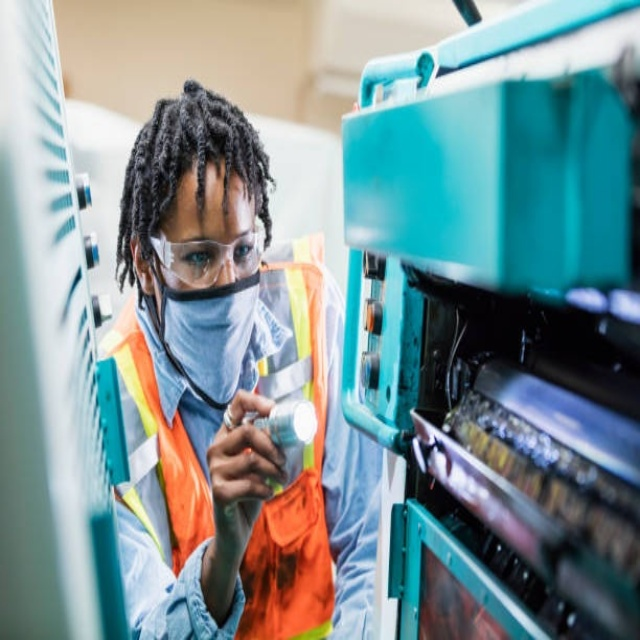Gafas: (148, 221, 267, 290)
Mascara: (147, 243, 264, 413)
Sin_guantes: (206, 390, 291, 526)
